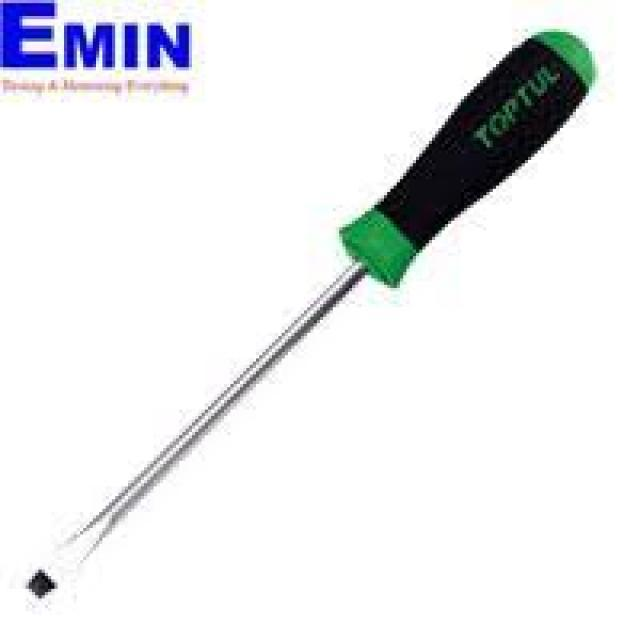screwdriver: (24, 24, 600, 603)
